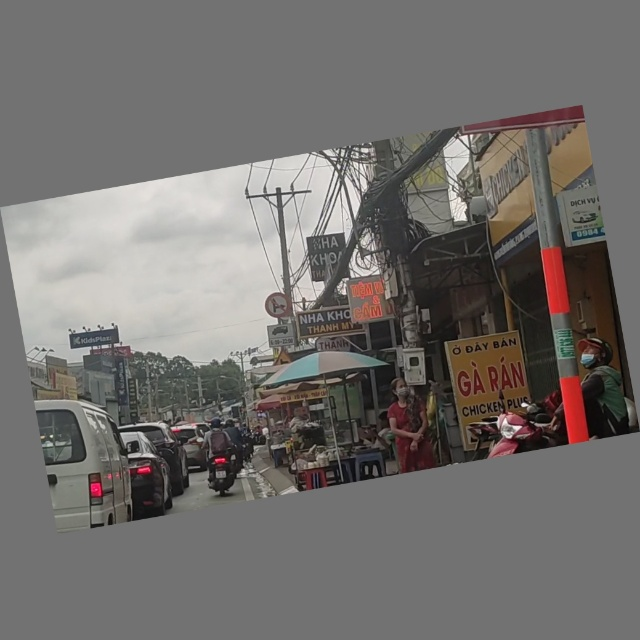P.139: (264, 290, 295, 321)
S.505a*Xe tai: (267, 321, 299, 347)
W.205b: (268, 350, 304, 369)
